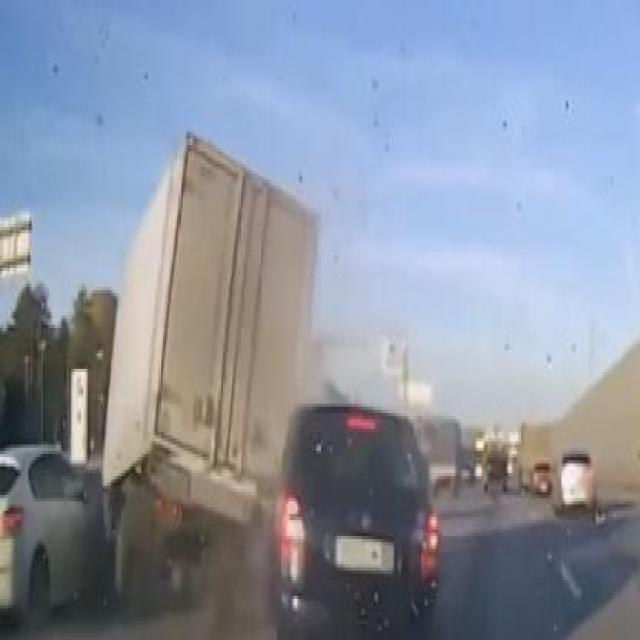accident: (0, 110, 328, 634)
